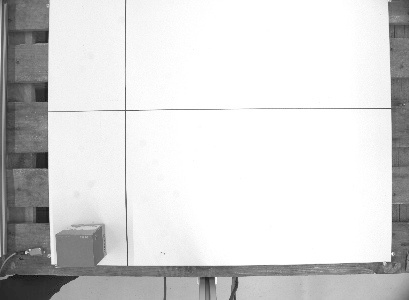b7: (52, 220, 107, 269)
